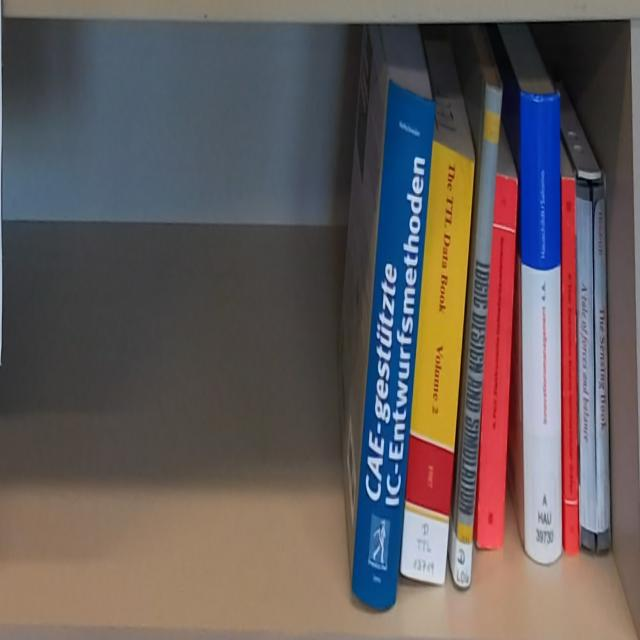Book Spine: (350, 80, 436, 614), (401, 134, 475, 583), (452, 85, 502, 597), (521, 82, 563, 565), (476, 169, 519, 550), (590, 176, 614, 555), (562, 177, 580, 555), (578, 178, 593, 557)
